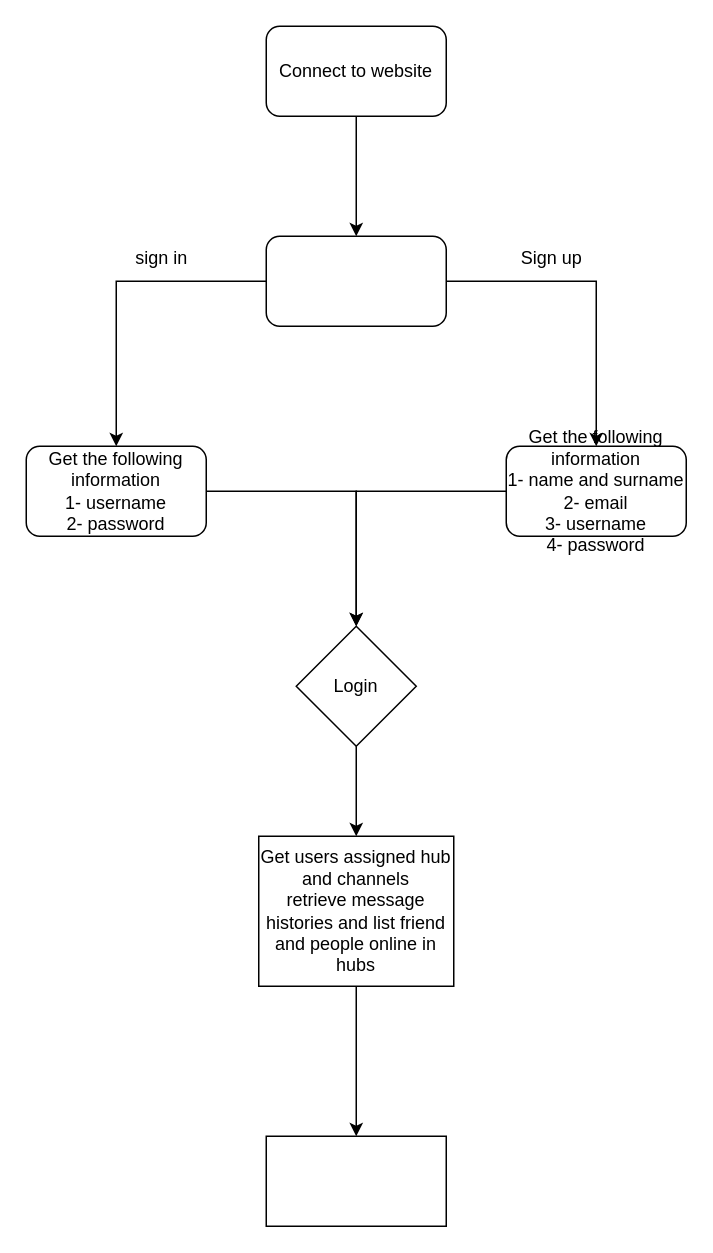
Some shapes in this 713 by 1253 pixel diagram are drawn without their labels. The shapes that lost their labels are listed below. From the top down, each one's box as (x1, y1, x2, y2) in pixels, then its label:
(265, 235, 446, 326): Two options 1- Sign up 2- Sign in
(265, 1135, 446, 1226): Then user can message in any chat he/she selects
